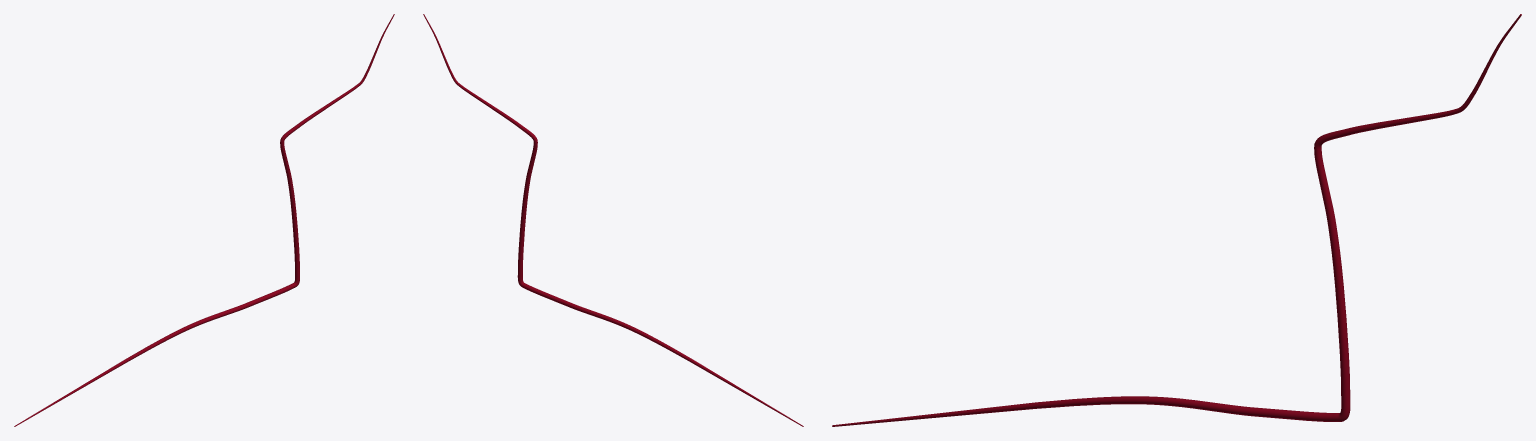
The model's file is Vessel02.fbx.
3 views of the same model, side by side, from view 1: azimuth 30°, elevation 25°; view 2: azimuth 150°, elevation 25°; view 3: azimuth 330°, elevation 25° (orthographic). The views are drawn at different scales.
Visible parts, largest first — view 1: root; view 2: root; view 3: root.
Part boxes in pixels (bbox=[...]): root: bbox=[14, 14, 394, 426]; root: bbox=[423, 14, 803, 426]; root: bbox=[832, 14, 1521, 426].
Bounding box in the file's own units: 2.7 × 2.17 × 0.0309.
